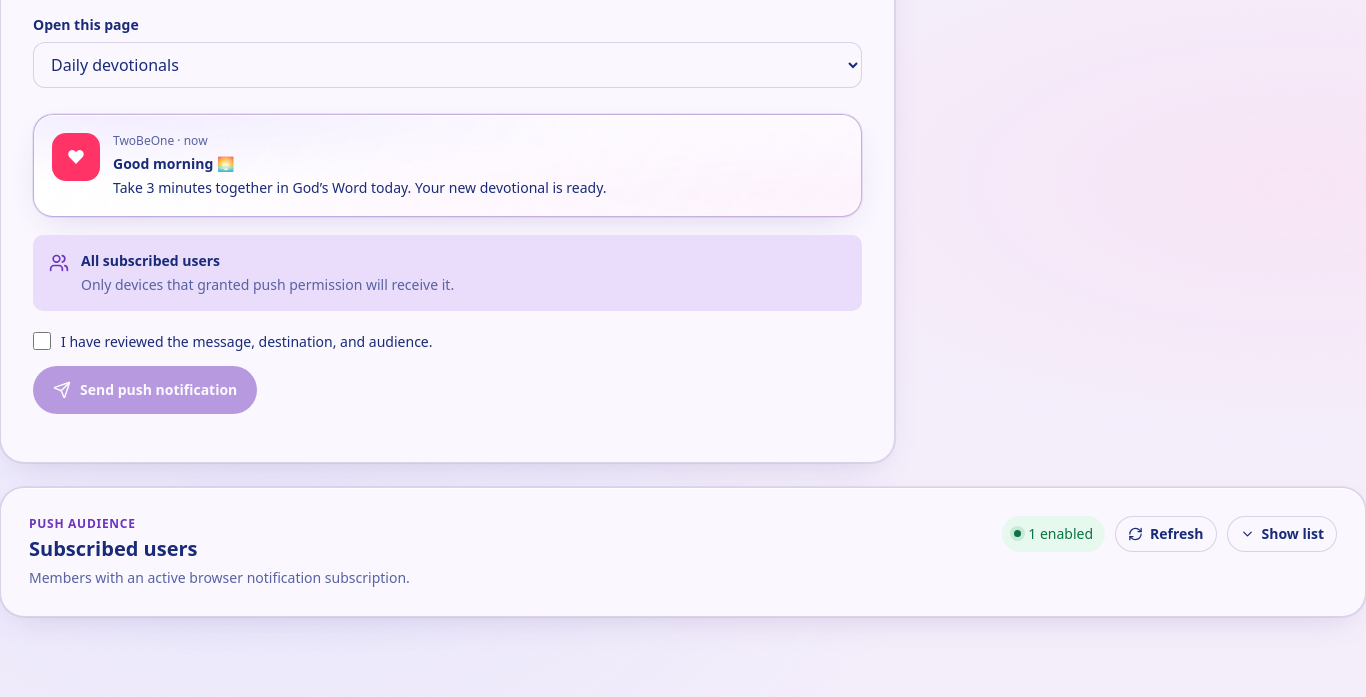
Test: PushNotificationsManager › shows subscribed users, the template library, and requires audience confirmation
This screenshot has width=1366, height=697.
(page scrolled)
Check: the text "1 enabled" is shown, box x1=1002 y1=516 x2=1105 y2=552
Check: the text "Firaol Akawak" is not shown
Click the button "Show list" at (1282, 534), box x1=1226 y1=516 x2=1337 y2=552
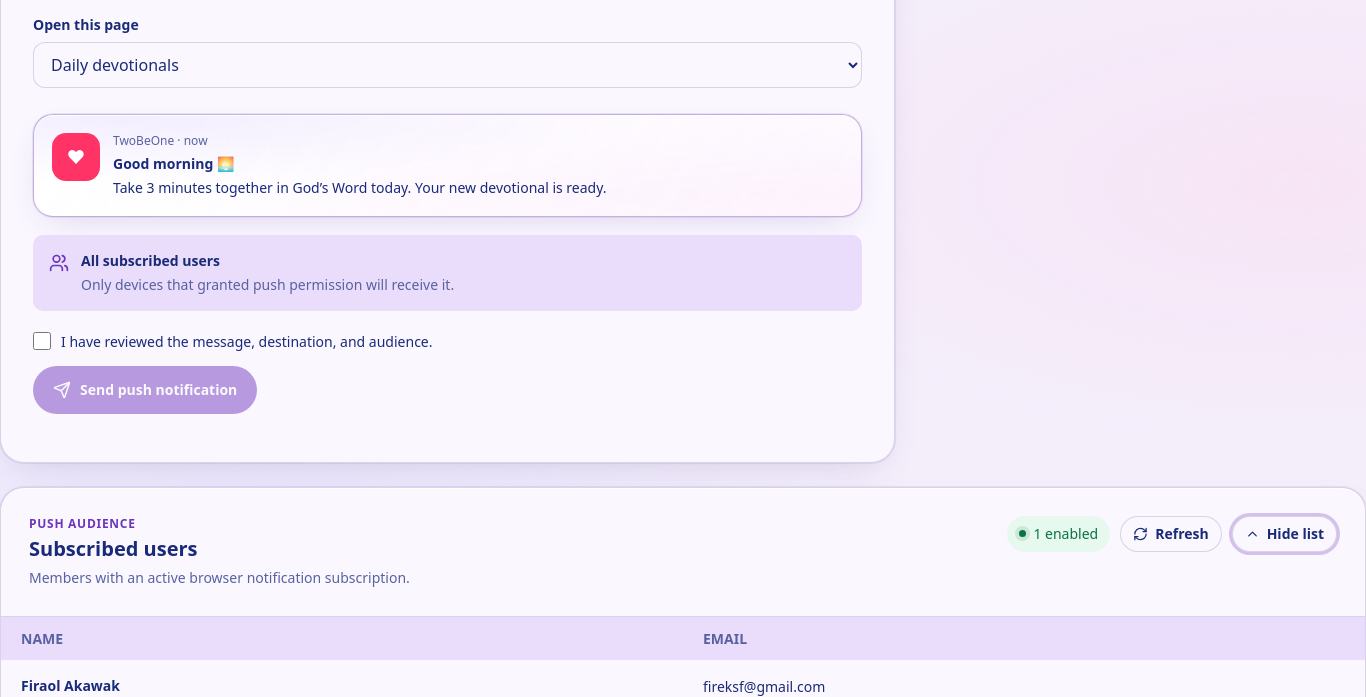
Check: the button "Send push notification" is disabled, box x1=33 y1=366 x2=257 y2=414
Check: the text "Firaol Akawak" is shown, box x1=21 y1=676 x2=120 y2=695
